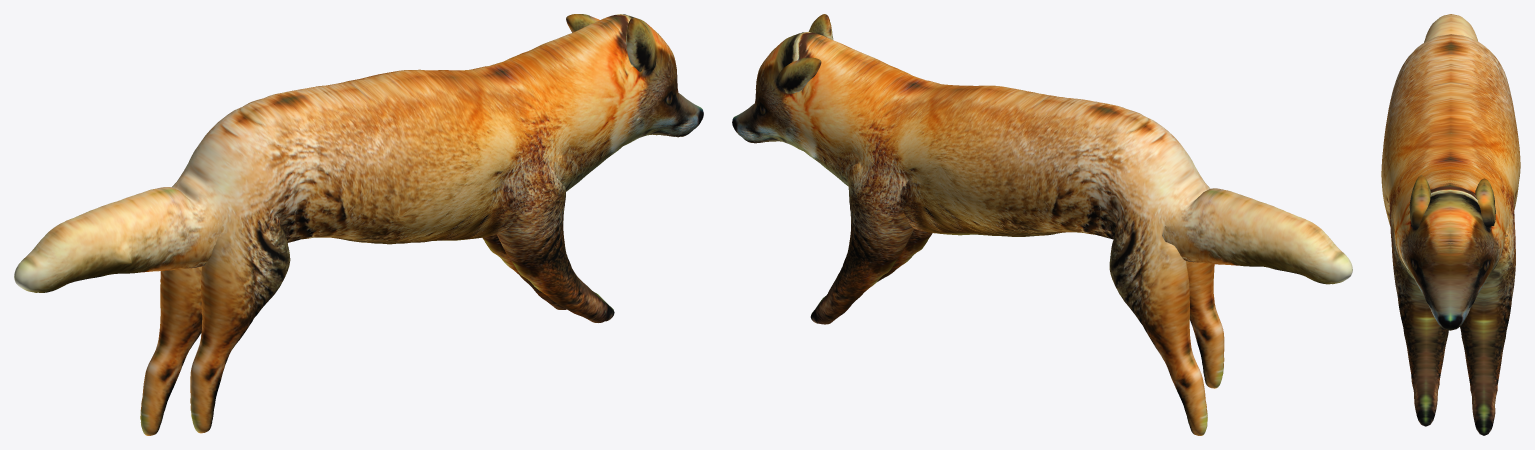
3 views of the same model, side by side, from view 1: azimuth 30°, elevation 25°; view 2: azimuth 150°, elevation 25°; view 3: azimuth 270°, elevation 25° (orthographic). The views are drawn at different scales.
Size of the model in its own units: 9.37 by 4.35 by 1.87.
1 material, 1 textured.
